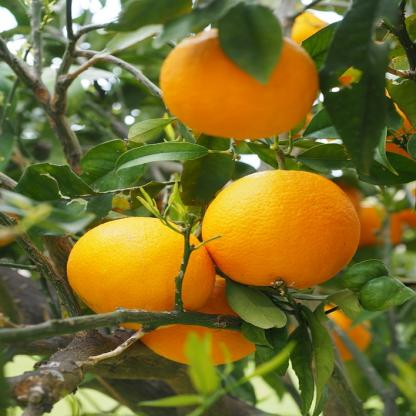orange: (196, 170, 358, 296), (58, 216, 221, 332), (159, 32, 321, 146), (116, 266, 271, 364)
